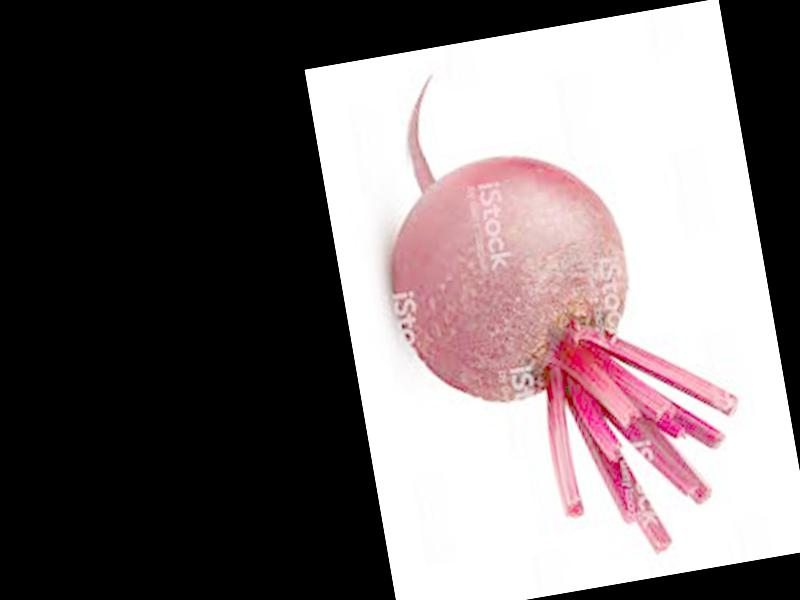Beet: (360, 33, 759, 588)
